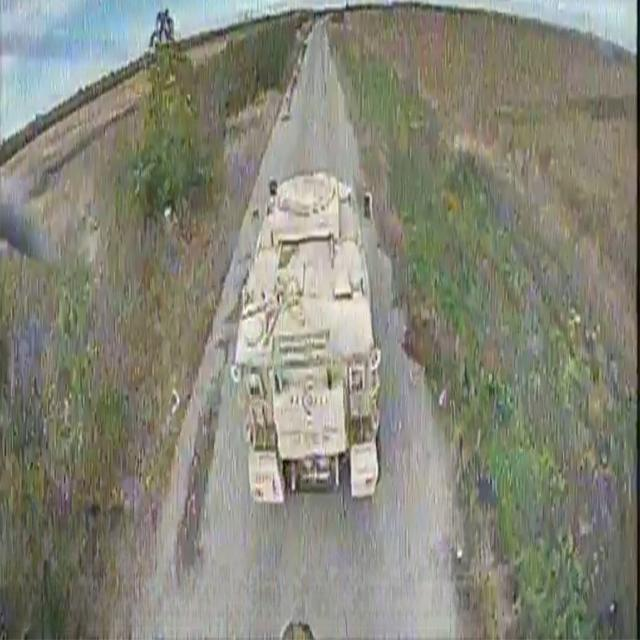Vehicle: (229, 168, 386, 526)
